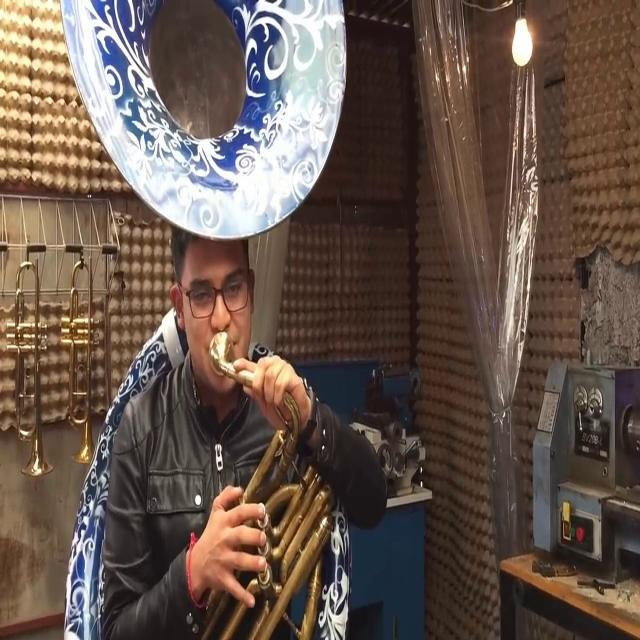Tuba: (58, 0, 353, 640)
